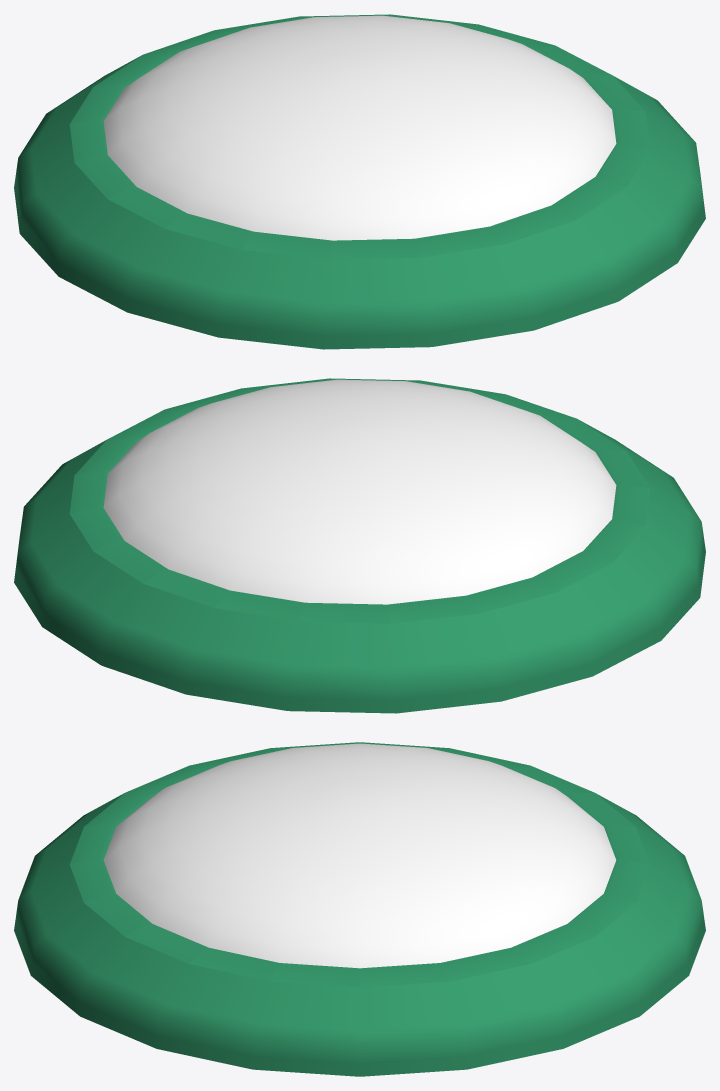
File: clock.fbx
3 views of the same model, one above another, from view 1: azimuth 30°, elevation 25°; view 2: azimuth 150°, elevation 25°; view 3: azimuth 270°, elevation 25° (orthographic).
Parts seen in each view (by area): view 1: Body, Glass; view 2: Body, Glass; view 3: Body, Glass.
Boxes of the visible parts, left/top/right/bottom form: Body: left=14, top=14, right=705, bottom=349; Glass: left=103, top=15, right=616, bottom=240; Body: left=14, top=378, right=705, bottom=713; Glass: left=103, top=379, right=616, bottom=604; Body: left=14, top=742, right=705, bottom=1076; Glass: left=103, top=743, right=616, bottom=968.
Size of the model in its own units: 20.72 by 4.34 by 20.72.
